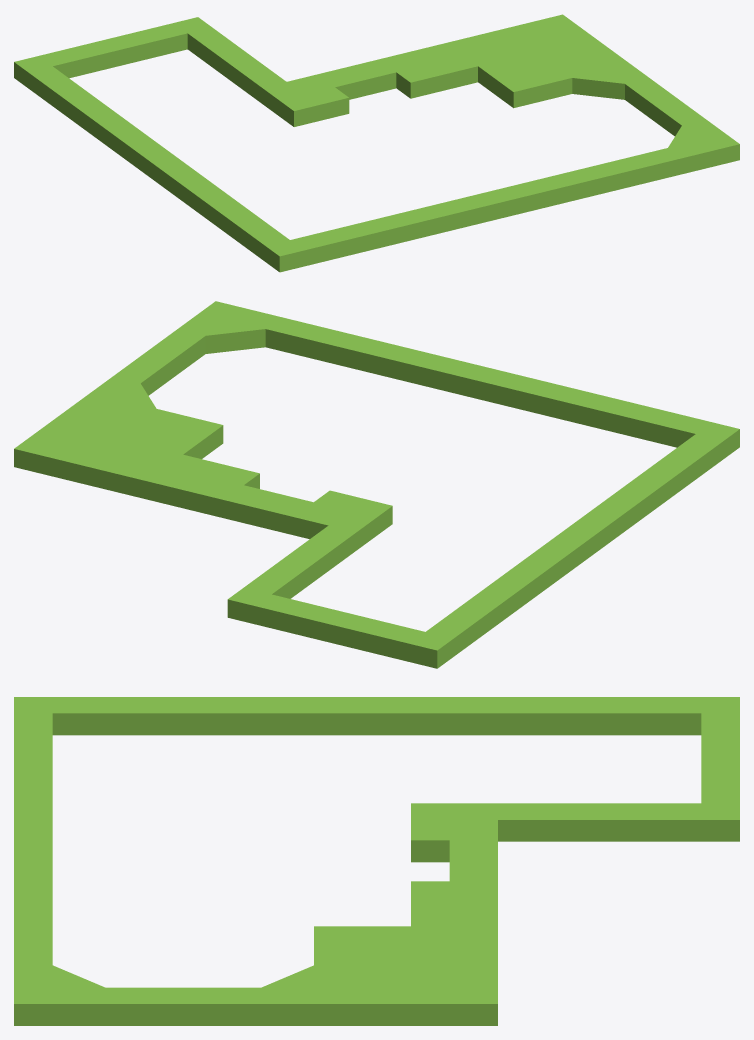
The model's file is x_zem_0_45_1_rmstrd.fbx.
The picture shows the model from 3 angles, top to bottom: view 1: azimuth 30°, elevation 25°; view 2: azimuth 150°, elevation 25°; view 3: azimuth 270°, elevation 25°; orthographic projection. The views are drawn at different scales.
Parts seen in each view (by area): view 1: x_zem_0_45_1_rmstrd1; view 2: x_zem_0_45_1_rmstrd1; view 3: x_zem_0_45_1_rmstrd1.
Boxes of the visible parts, x1,y1,x2,y2 form: x_zem_0_45_1_rmstrd1: (14, 14, 739, 272); x_zem_0_45_1_rmstrd1: (14, 301, 739, 668); x_zem_0_45_1_rmstrd1: (14, 697, 739, 1025).
Size of the model in its own units: 30 by 1 by 30.
